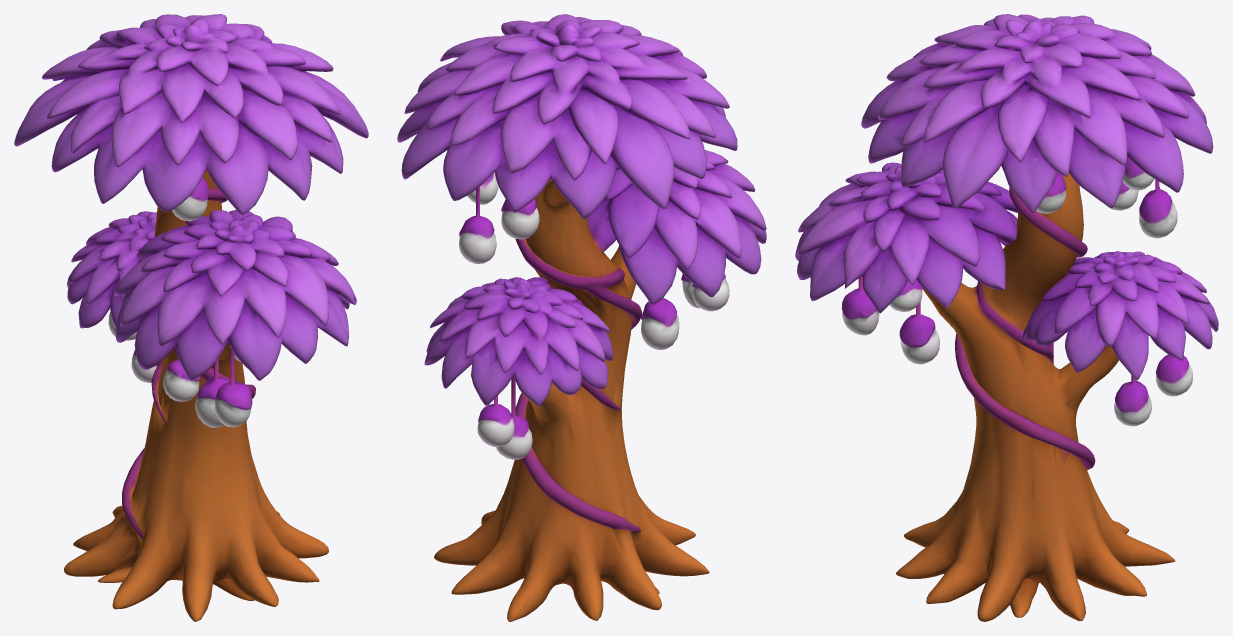
The model's file is tree_twotier.glb.
3 renders of one model, left to right at view 1: azimuth 30°, elevation 25°; view 2: azimuth 150°, elevation 25°; view 3: azimuth 270°, elevation 25°, orthographic.
Parts seen in each view (by area): view 1: tripo_node_1ba98ba2-8cc3-42db-8146-cf8f474115b3; view 2: tripo_node_1ba98ba2-8cc3-42db-8146-cf8f474115b3; view 3: tripo_node_1ba98ba2-8cc3-42db-8146-cf8f474115b3.
Part boxes in pixels (x1,y1,x2,y2): tripo_node_1ba98ba2-8cc3-42db-8146-cf8f474115b3: (14, 14, 368, 621); tripo_node_1ba98ba2-8cc3-42db-8146-cf8f474115b3: (397, 14, 766, 621); tripo_node_1ba98ba2-8cc3-42db-8146-cf8f474115b3: (795, 14, 1218, 621).
Bounding box in the file's own units: 2.68 × 5 × 3.51.
Materials: 1 (1 with a texture image).
